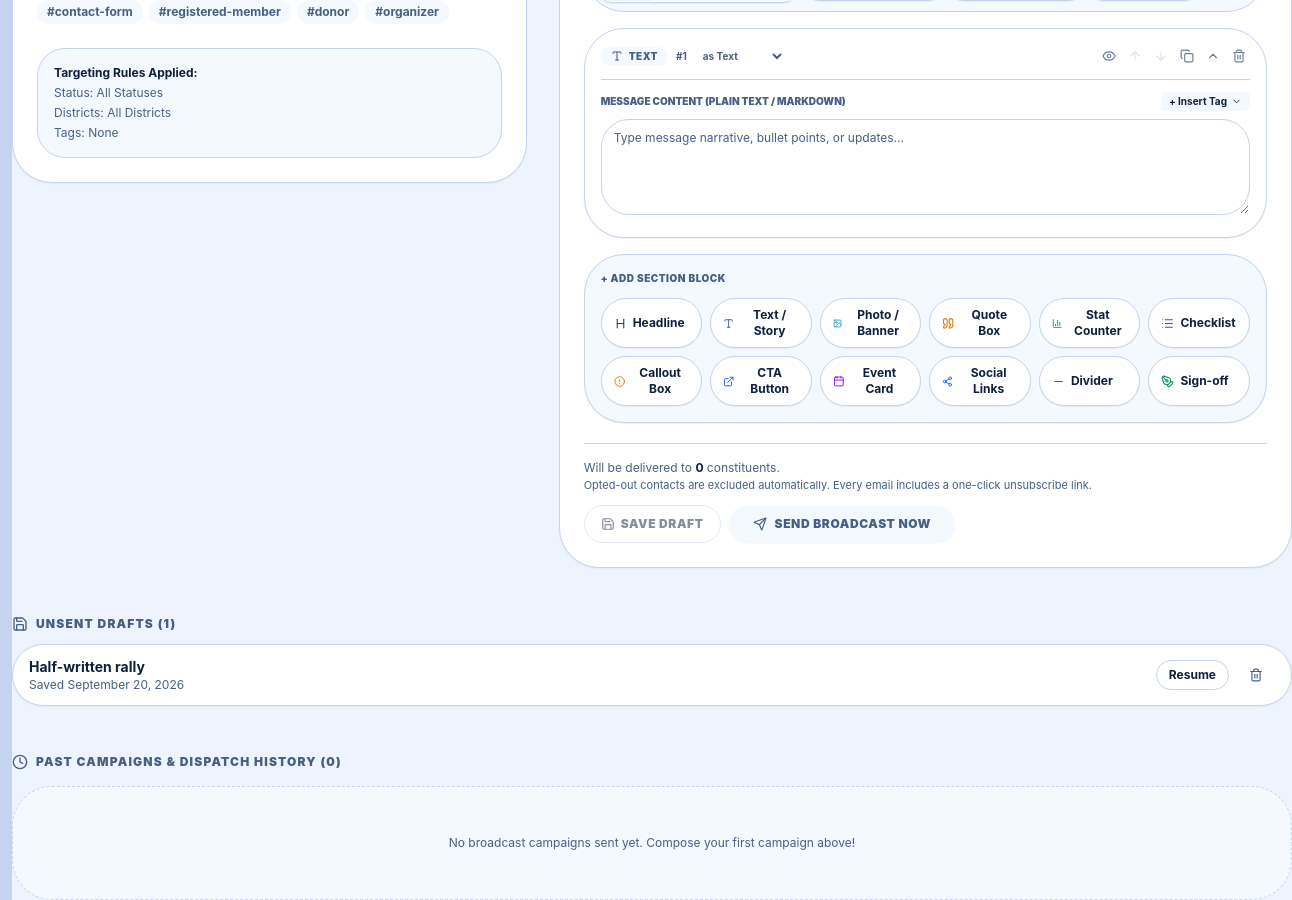
it: broadcast composer failure states › confirms before a loaded draft replaces what is on screen
The image size is (1292, 900).
(page scrolled)
Click the button "Resume".
click(1192, 675)  # box [1156,660,1229,690]
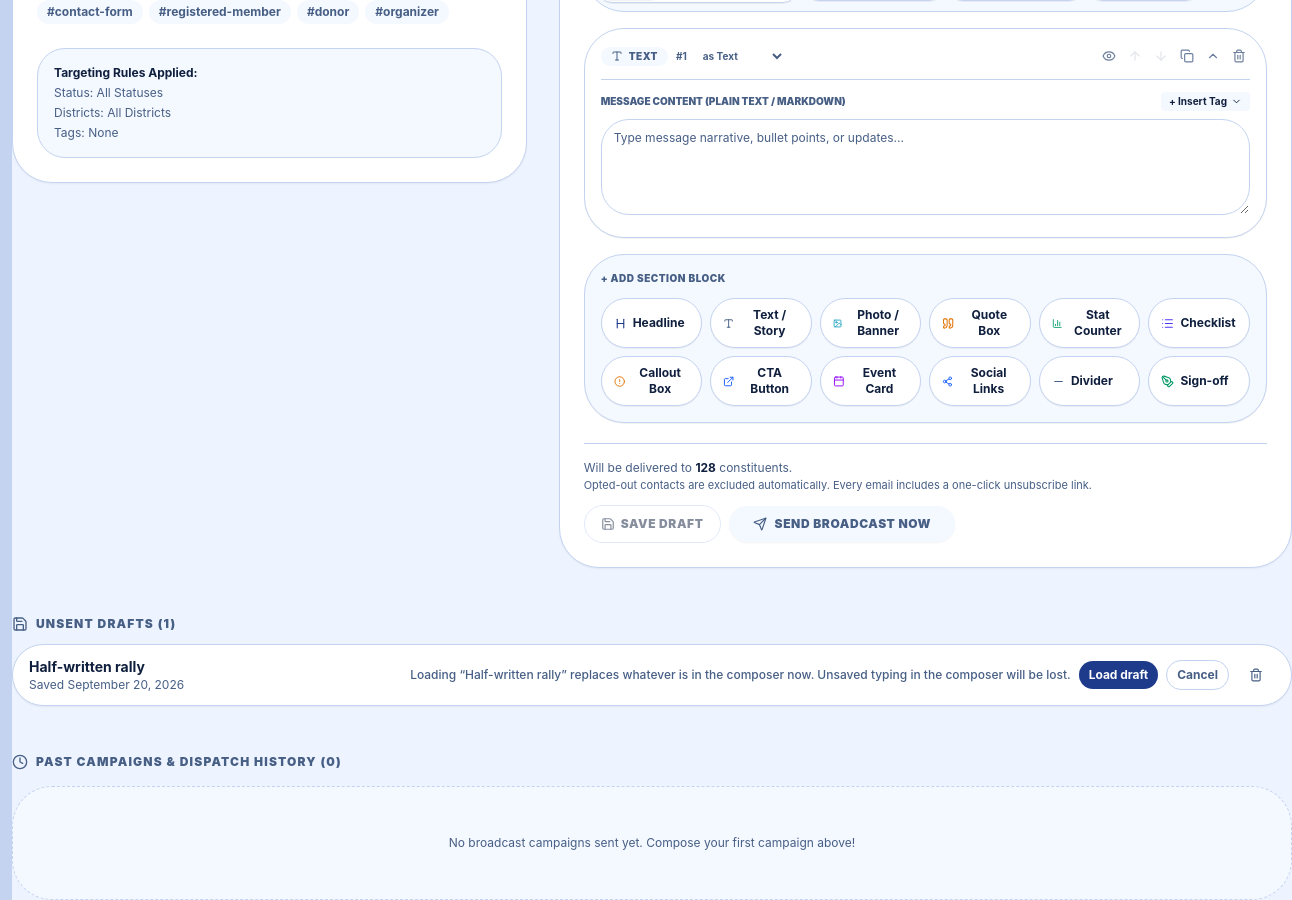
expect the text "Loading “Half-written rally” replaces whatever is in the composer" is shown: met, box [410,667,1071,682]
expect the text "Load draft" is shown: met, box [1079,661,1158,689]
